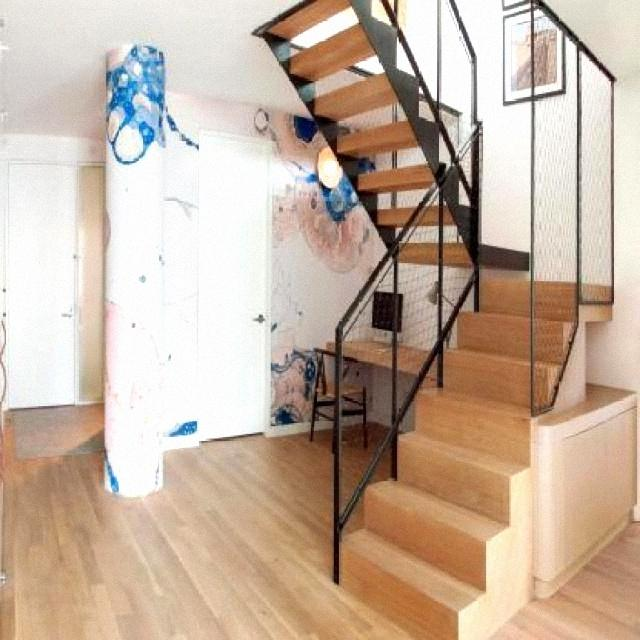stair: (338, 232, 639, 640), (266, 11, 499, 232)
